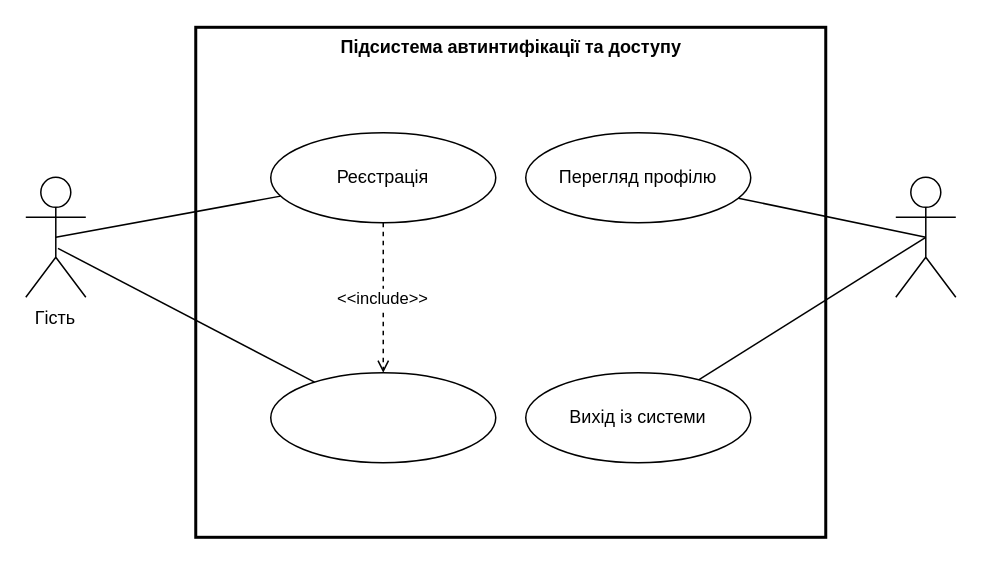
The diagram is 1001 pixels wide and 564 high, and some of its shapes have lost their labels. The shapes that lost their labels are listed below. From the top down, each one's centre as x and y in pixels, then its label:
point (925, 236): Користувач
point (382, 417): Вхід у систему
